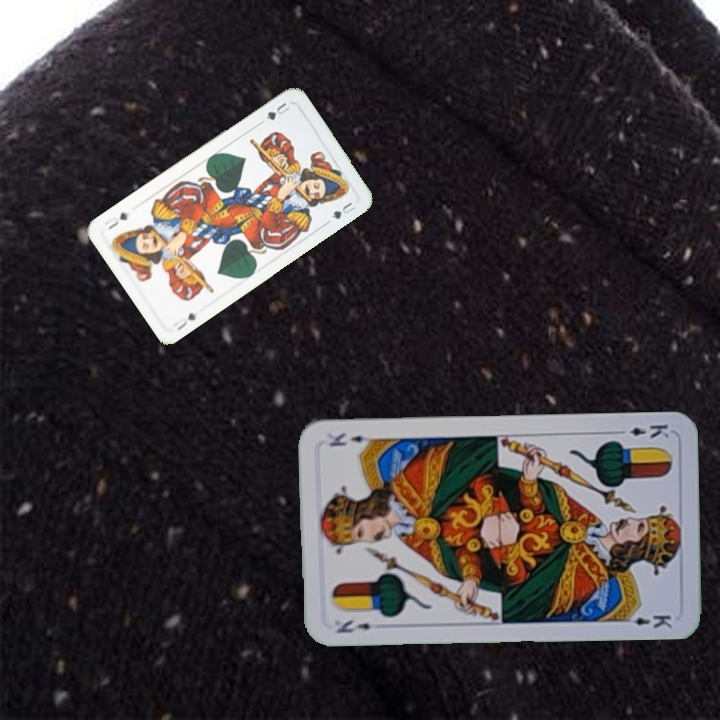EK: (612, 420, 672, 440), (333, 616, 374, 636)
GU: (262, 98, 292, 123), (169, 309, 199, 333)
